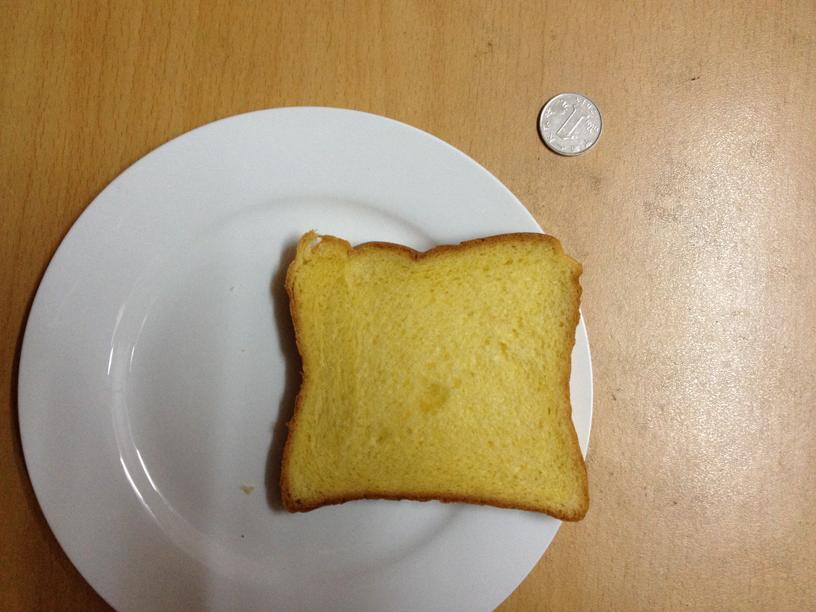bread: (276, 228, 589, 521)
coin: (533, 91, 601, 156)
